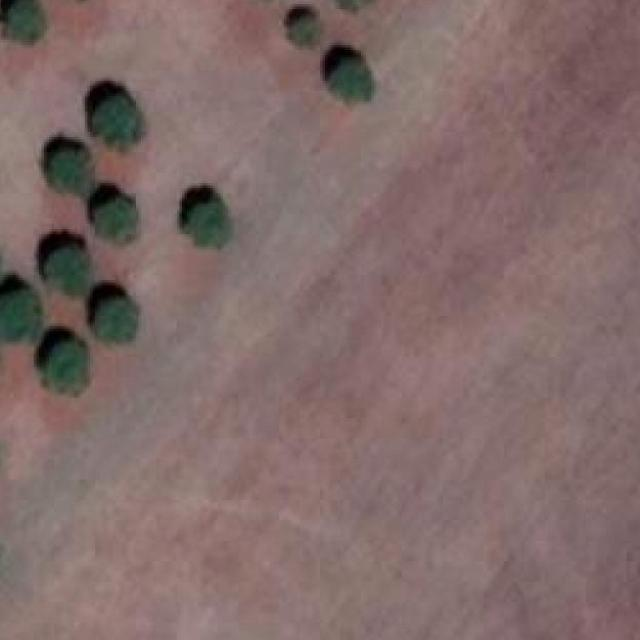Tree: (90, 96, 144, 145), (44, 339, 90, 394), (47, 248, 91, 294), (0, 292, 39, 342), (328, 60, 374, 101), (95, 300, 136, 344), (189, 204, 228, 248), (5, 0, 44, 43), (95, 200, 136, 240), (51, 150, 90, 191), (291, 16, 320, 45), (325, 0, 374, 7)
